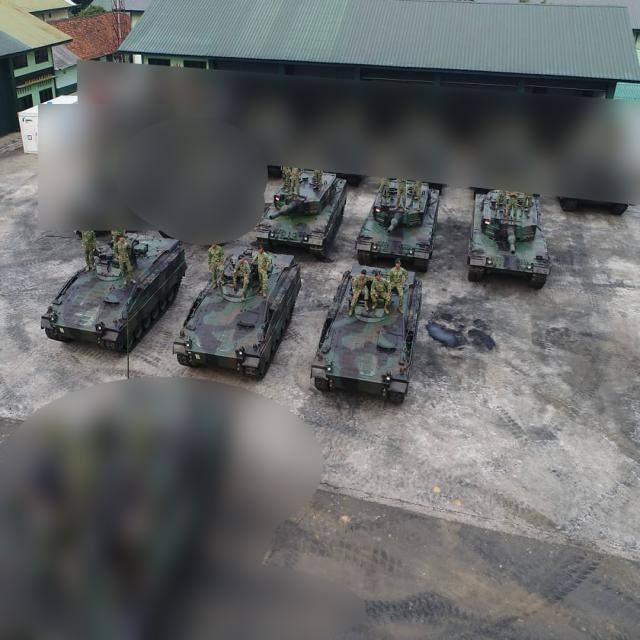tank: (41, 232, 187, 354), (173, 250, 303, 379), (310, 268, 424, 404), (254, 168, 349, 261), (356, 178, 442, 274), (468, 190, 552, 288)
